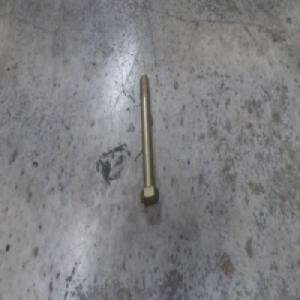Bolt: (137, 74, 159, 204)
